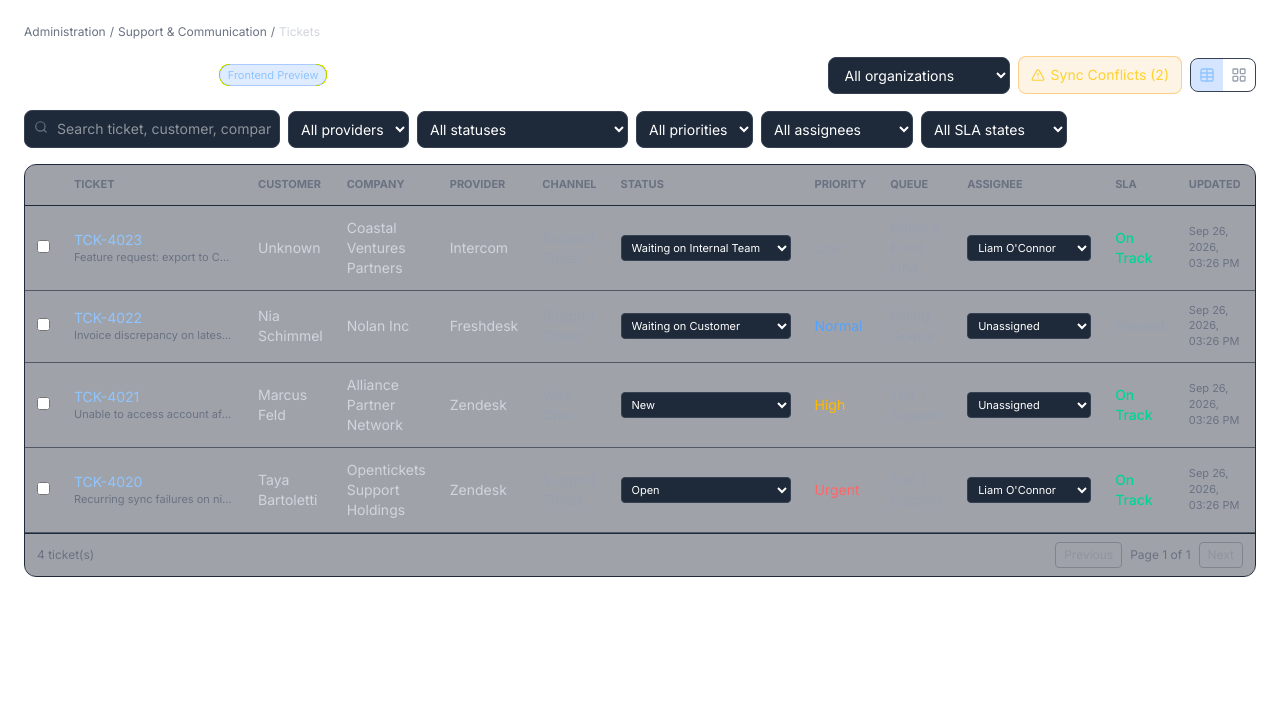
SupportTicketsIntegration › switches between table and board view
Click the button named "Board view": (1239, 75) [1223,59,1255,91]
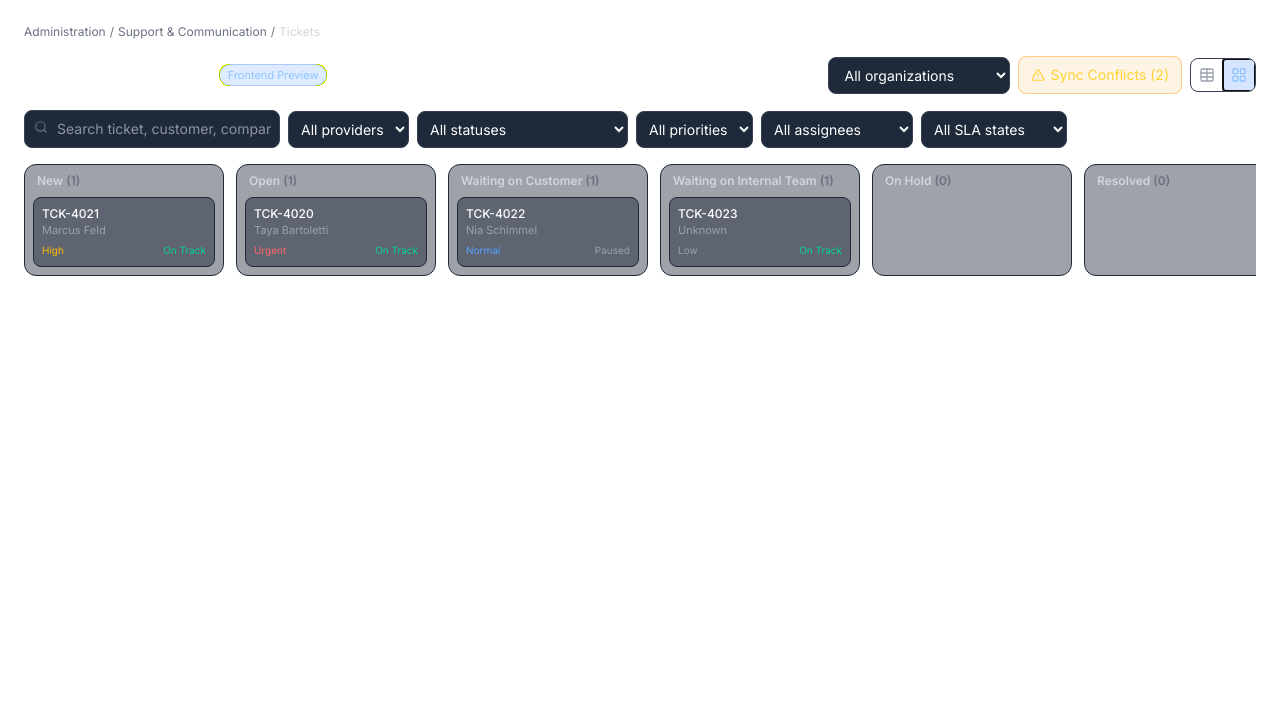
Expected: the table is gone
